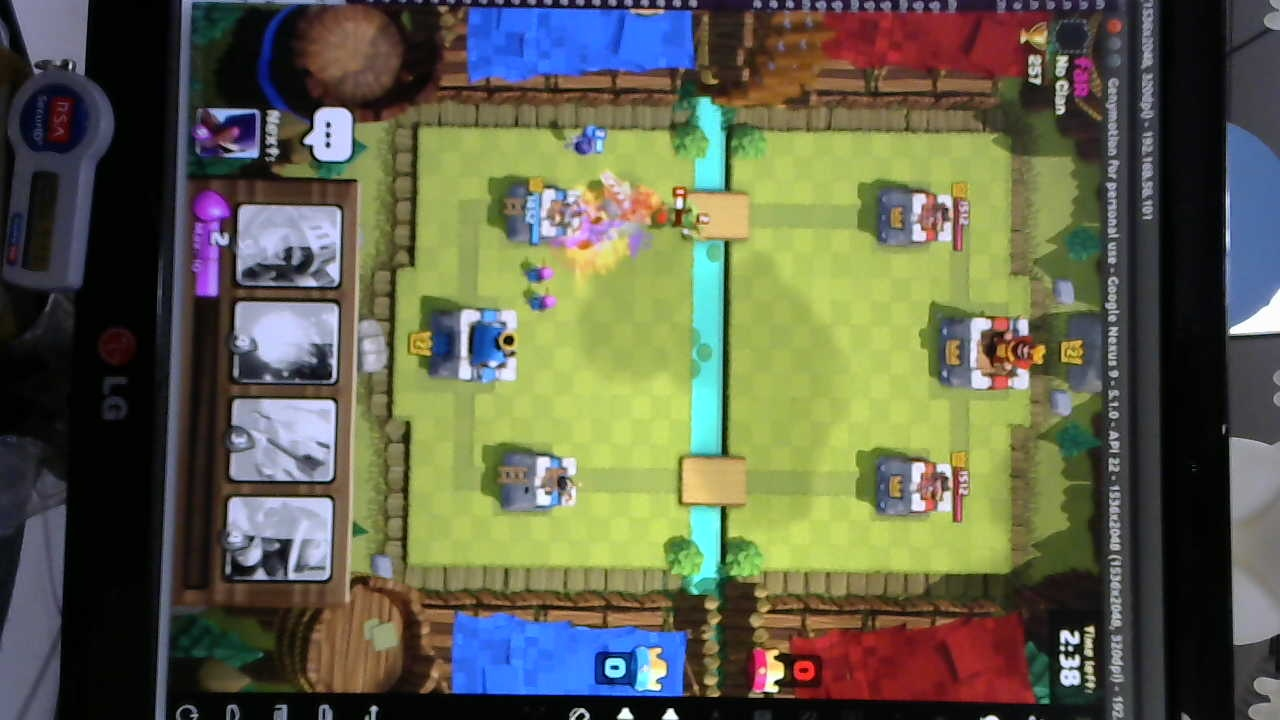arena: (499, 446, 584, 519), (505, 183, 591, 248)
bomb: (566, 126, 611, 160)
earena: (870, 456, 956, 524), (878, 187, 956, 245)
eking: (934, 308, 1041, 395)
king: (433, 304, 521, 386)
prince: (595, 173, 670, 222)
